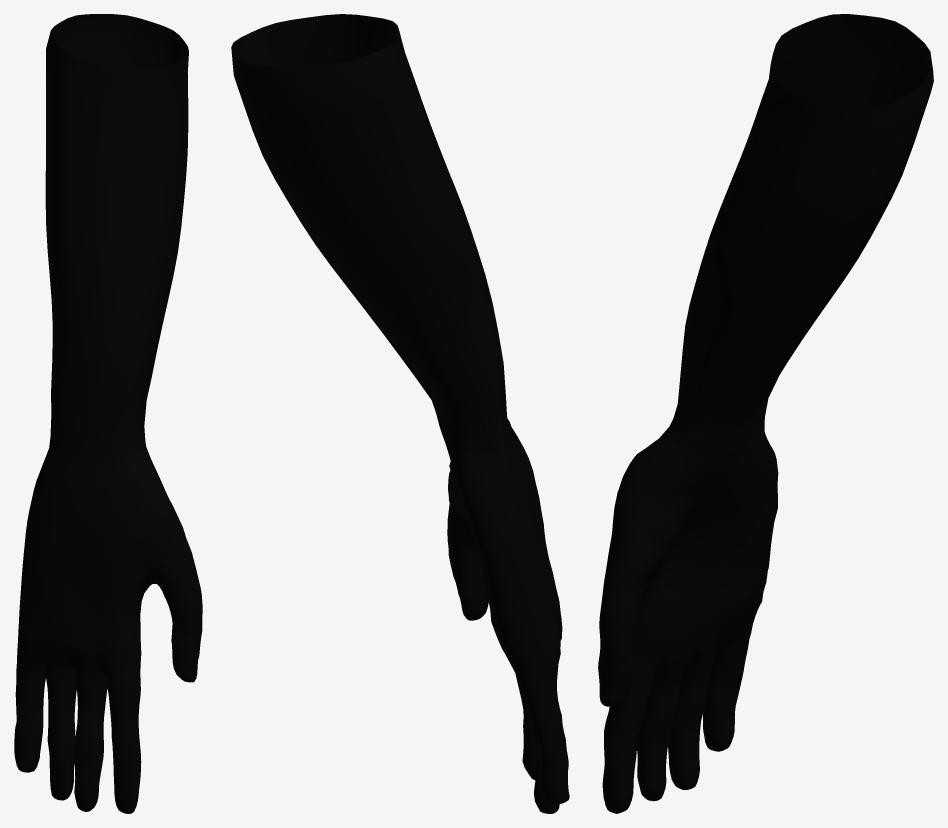
The model's file is Player Hand Test.fbx.
The picture shows the model from 3 angles, left to right: view 1: azimuth 30°, elevation 25°; view 2: azimuth 150°, elevation 25°; view 3: azimuth 270°, elevation 25°; orthographic projection. The views are drawn at different scales.
Visible parts, largest first — view 1: Player_Hand; view 2: Player_Hand; view 3: Player_Hand.
Part boxes in pixels (x1,y1,x2,y2): Player_Hand: (14,14,202,813); Player_Hand: (231,14,569,813); Player_Hand: (598,14,933,813).
Bounding box in the file's own units: 43.24 × 129 × 48.09.
